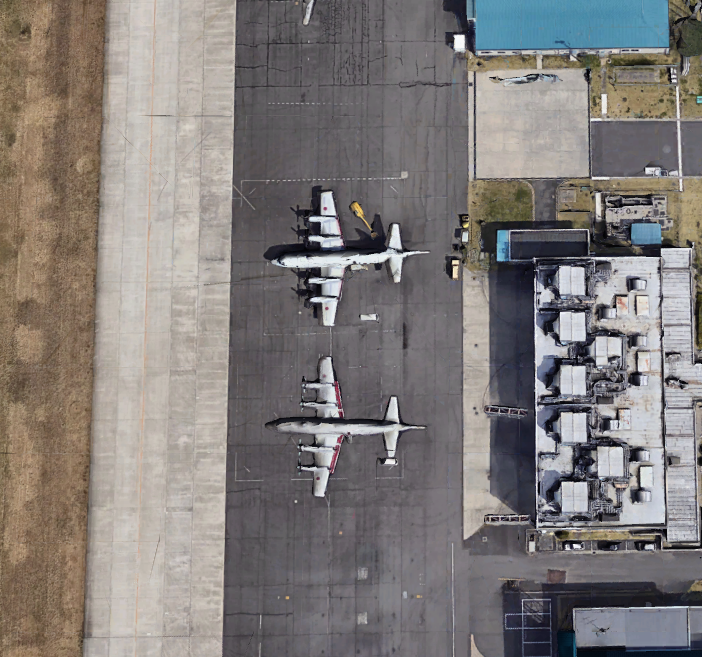A9: (260, 347, 434, 502), (265, 180, 435, 331)
